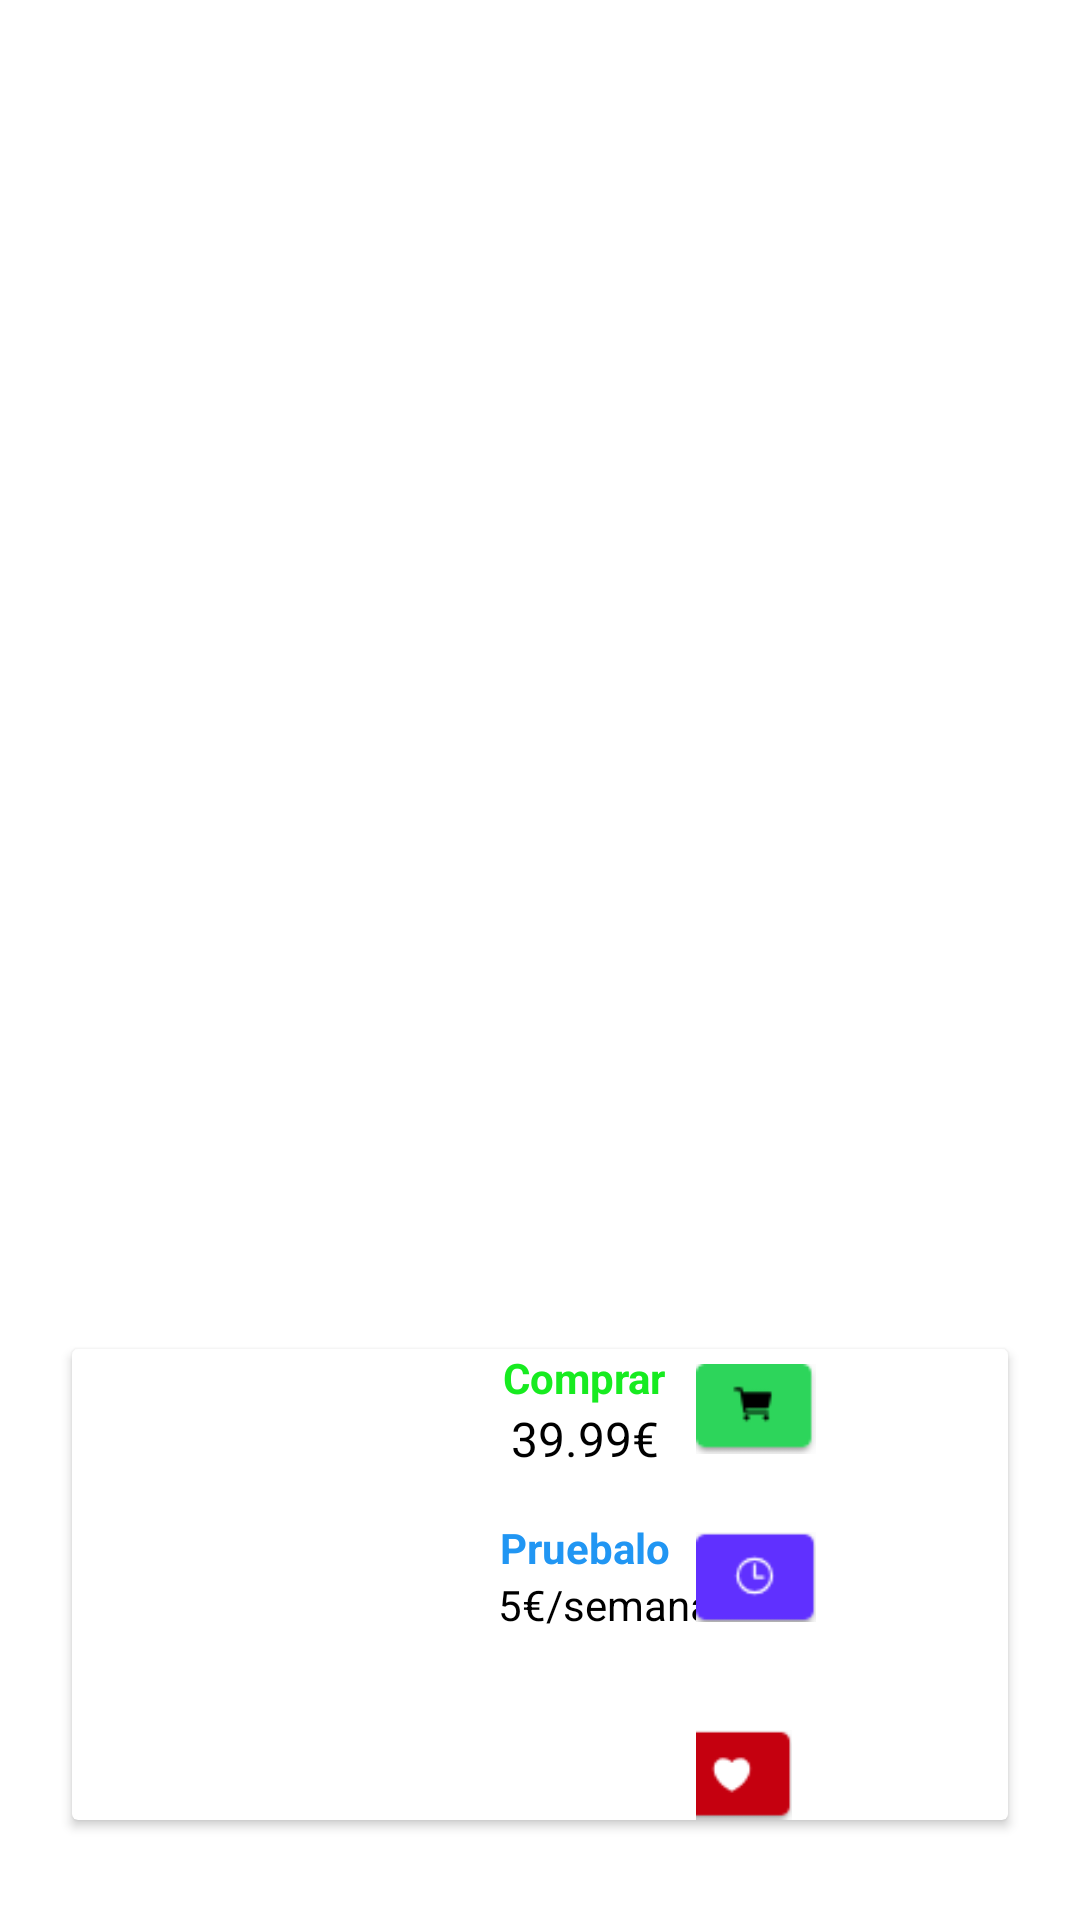

Icon click points for this 1080*1920 phone screenshot, format (x=x, y=y):
carritoverde: (x=754, y=1408)
